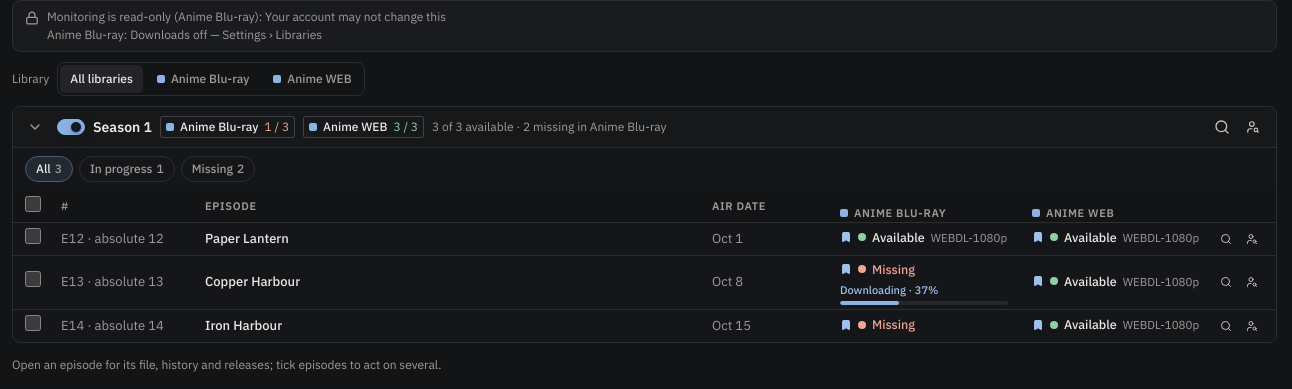
Test: Series page copies › badges each library's season in All, and one library's badge and facts once it is picked, with anime numbering
Expected: the element with test id "season-badge" reads "Anime Blu-ray 1 / 3", top-left (160, 116), bottom-right (295, 138)
Expected: the text with test id "season-summary" reads "3 of 3 available · 2 missing in Anime Blu-ray", top-left (432, 119), bottom-right (667, 134)
Step 1. Click the radio button labelled "Anime Blu-ray" → (203, 79), box top-left (147, 65), bottom-right (259, 93)
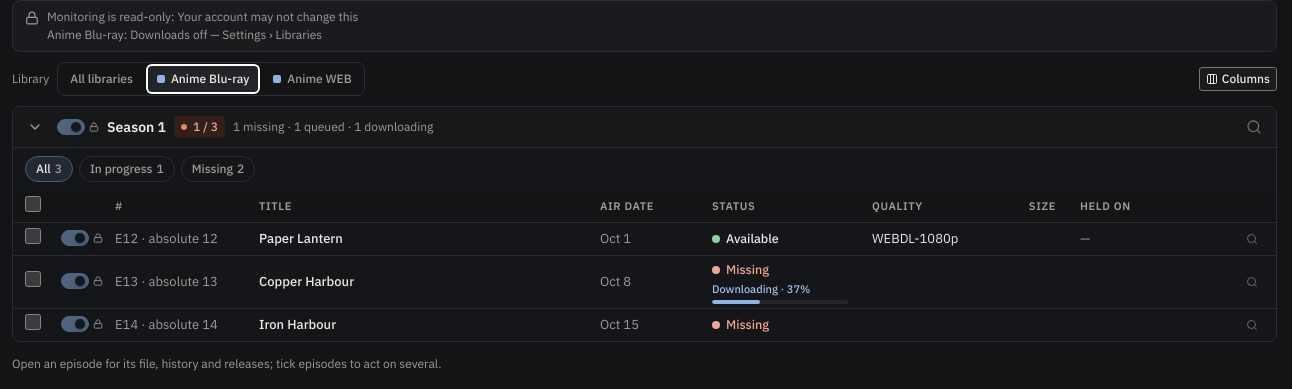
Expected: the text with test id "season-badge" reads "1 / 3", top-left (193, 119), bottom-right (218, 134)
Result: the text with test id "season-facts" reads "1 missing · 1 queued · 1 downloading" at top-left (233, 119), bottom-right (434, 134)
Result: the text with test id "season-summary" is gone
